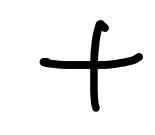plus: (41, 19, 143, 113)
